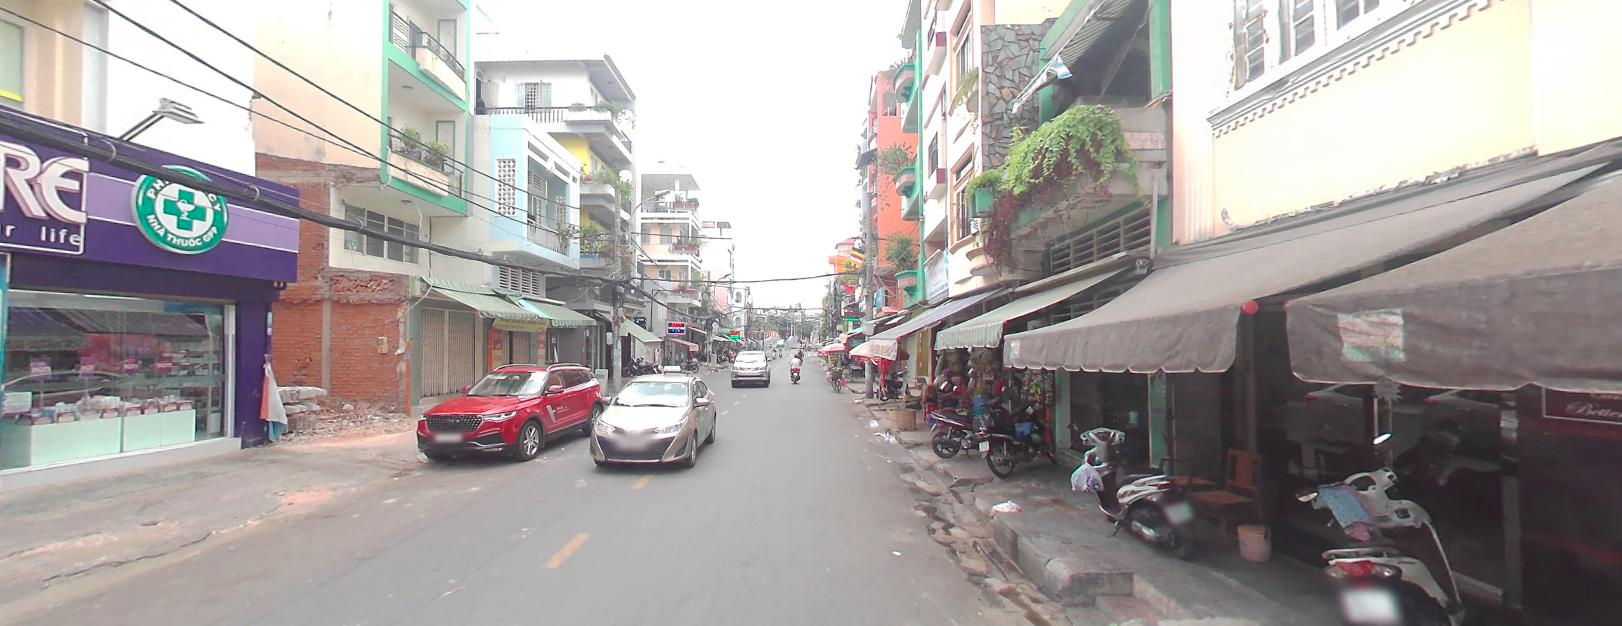Cam nguoc chieu: (785, 330, 789, 333)
Hieu lenh: (784, 333, 788, 337)
